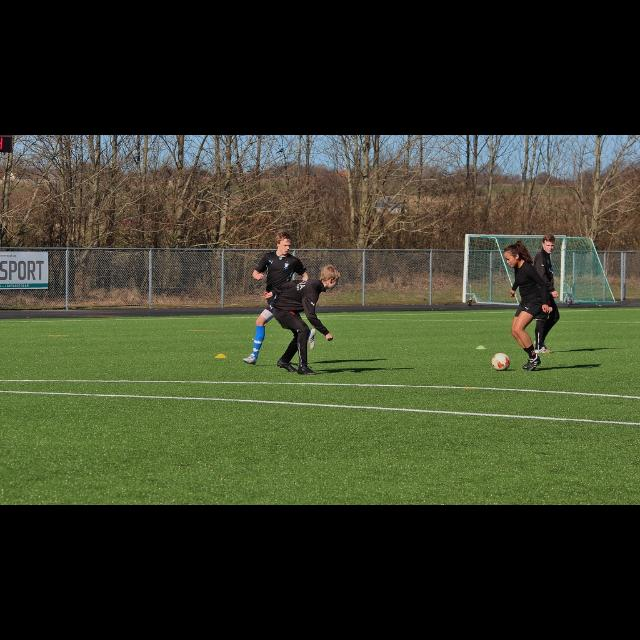Football: (491, 351, 509, 369)
